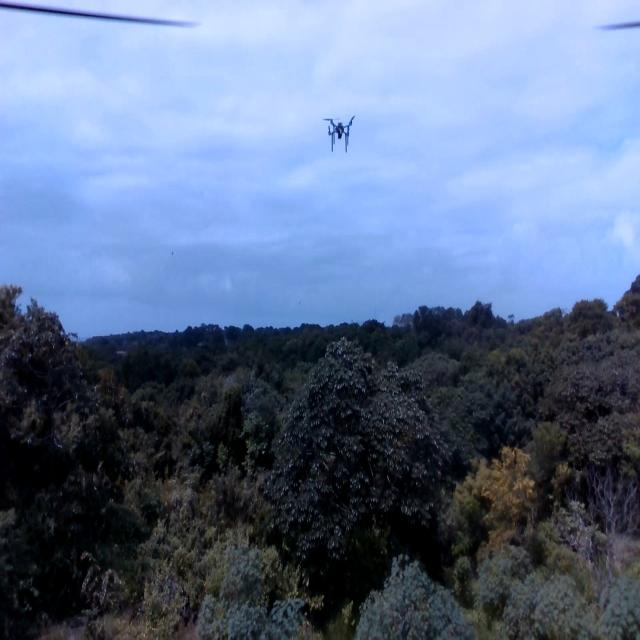-uav-: (317, 107, 361, 161)
